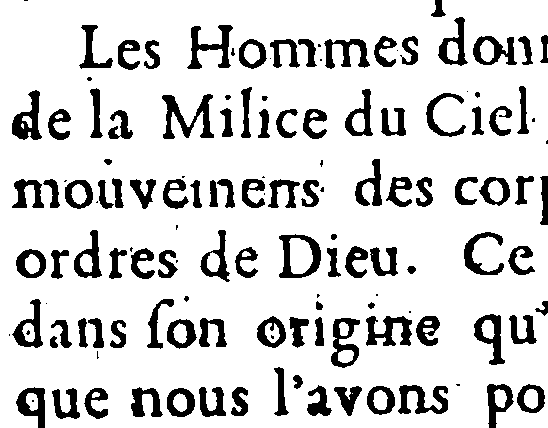e: (506, 243, 537, 278), (114, 35, 142, 71), (46, 107, 74, 142), (232, 245, 260, 279), (415, 313, 442, 348), (343, 244, 369, 280), (389, 174, 415, 209), (372, 36, 398, 70), (161, 178, 190, 208), (83, 387, 109, 420), (489, 104, 514, 138)
o: (64, 175, 99, 210), (254, 313, 289, 348), (162, 386, 196, 420), (236, 36, 269, 69), (479, 173, 512, 206), (15, 246, 48, 279), (363, 384, 396, 417), (165, 317, 197, 349), (472, 33, 503, 64), (516, 384, 545, 414)
